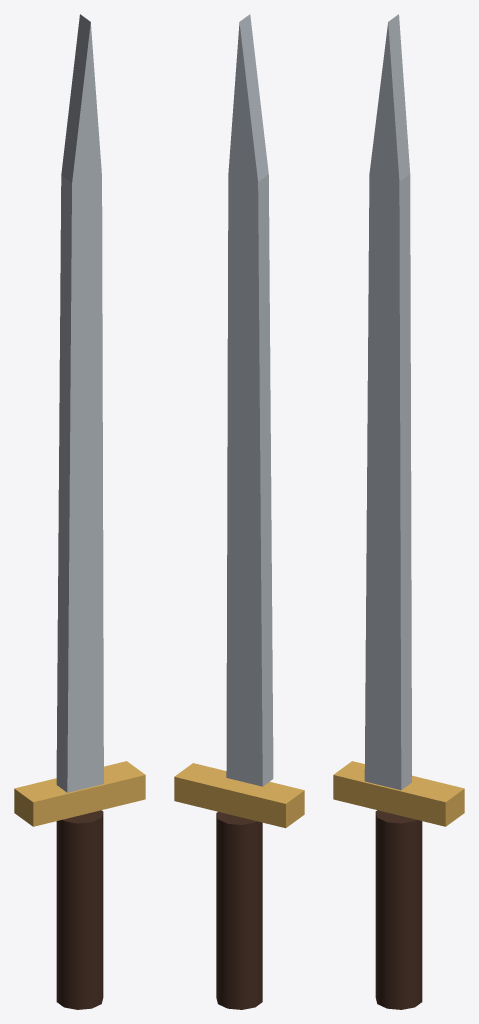
File: duelist-smallsword.glb
The picture shows the model from 3 angles, left to right: view 1: azimuth 30°, elevation 25°; view 2: azimuth 150°, elevation 25°; view 3: azimuth 330°, elevation 25°; orthographic projection.
Parts seen in each view (by area): view 1: Blade, Grip, Guard; view 2: Blade, Grip, Guard; view 3: Blade, Grip, Guard.
Part boxes in pixels (x1,y1,x2,y2): Blade: [56, 14, 103, 792]; Grip: [56, 810, 103, 1009]; Guard: [14, 761, 145, 826]; Blade: [226, 14, 273, 786]; Grip: [216, 812, 262, 1009]; Guard: [174, 763, 304, 828]; Blade: [364, 14, 411, 790]; Grip: [375, 810, 422, 1009]; Guard: [333, 761, 464, 826].
Size of the model in its own units: 0.12 by 1 by 0.044.
